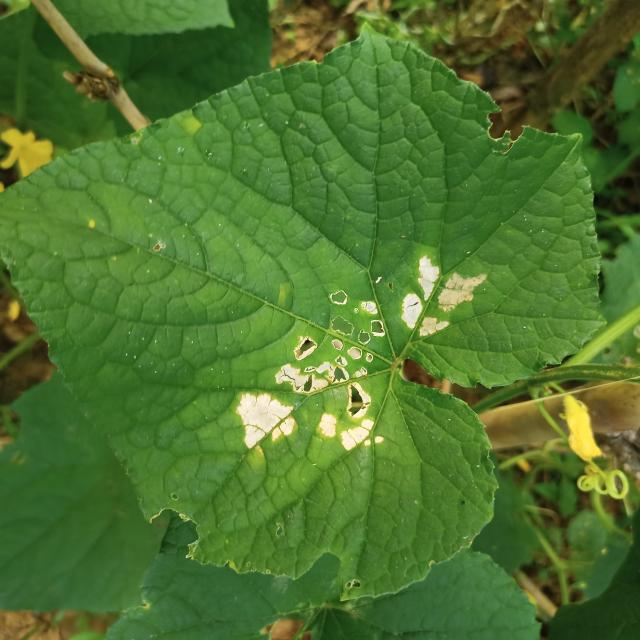disease_cucumber: (231, 280, 388, 451), (395, 247, 491, 343)
